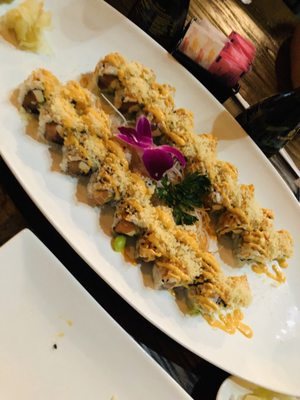curry: (155, 171, 212, 226)
pizza: (176, 0, 282, 112)
